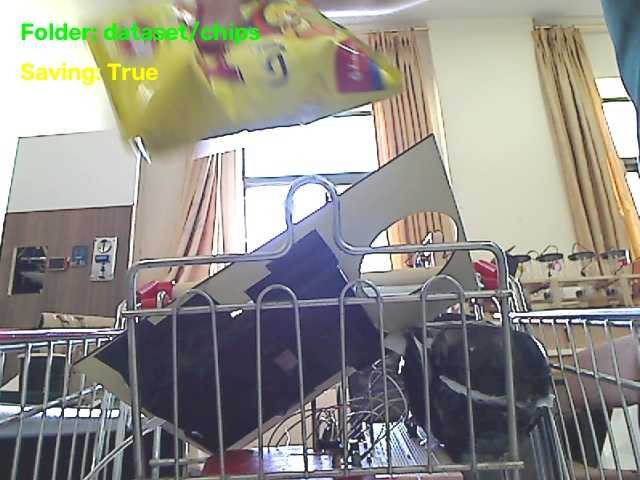chips: (88, 0, 401, 151)
